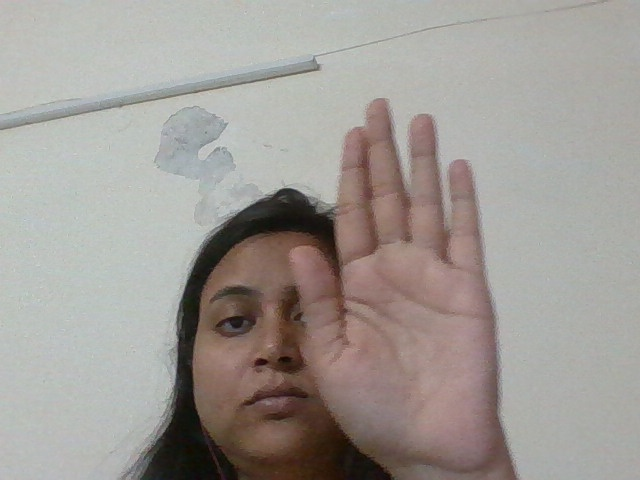pause: (271, 85, 533, 470)
